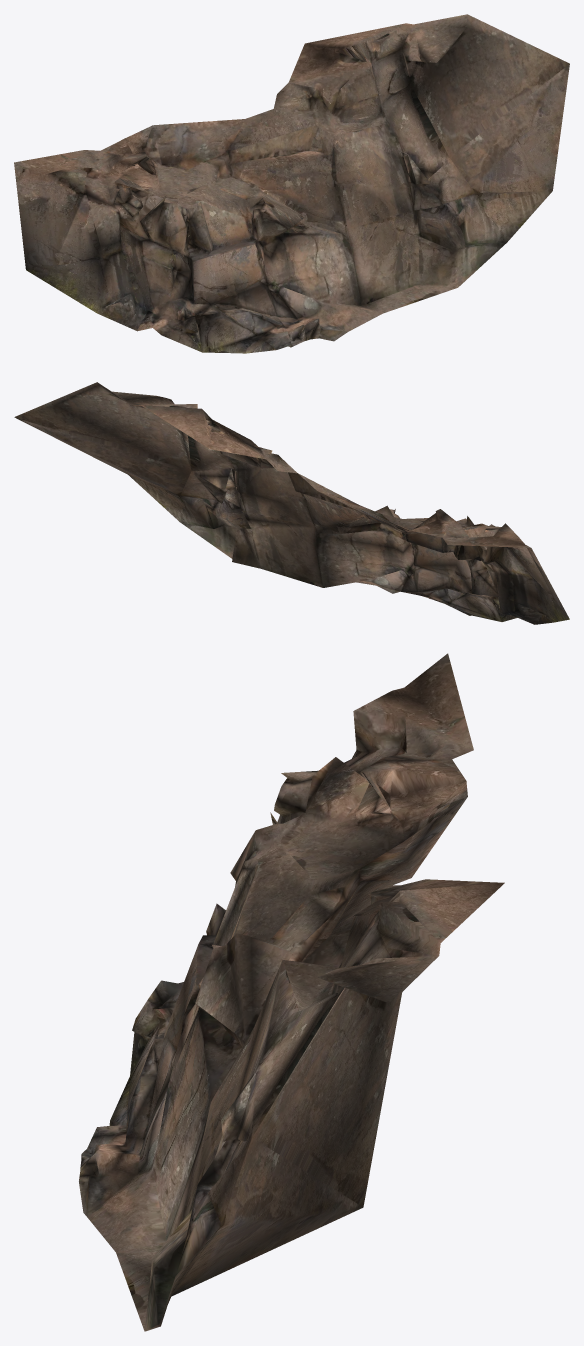
Rendered from namaqualand_cliff_02.glb.
3 views of the same model, one above another, from view 1: azimuth 30°, elevation 25°; view 2: azimuth 150°, elevation 25°; view 3: azimuth 270°, elevation 25° (orthographic). The views are drawn at different scales.
Visible parts, largest first — view 1: drone_rock_02_LOD0; view 2: drone_rock_02_LOD0; view 3: drone_rock_02_LOD0.
Part boxes in pixels (x1=…): drone_rock_02_LOD0: x1=14, y1=14, x2=569, y2=353; drone_rock_02_LOD0: x1=14, y1=382, x2=569, y2=624; drone_rock_02_LOD0: x1=79, y1=653, x2=504, y2=1331.
Size of the model in its own units: 18.96 by 7.16 by 6.39.
1 material, 1 textured.
